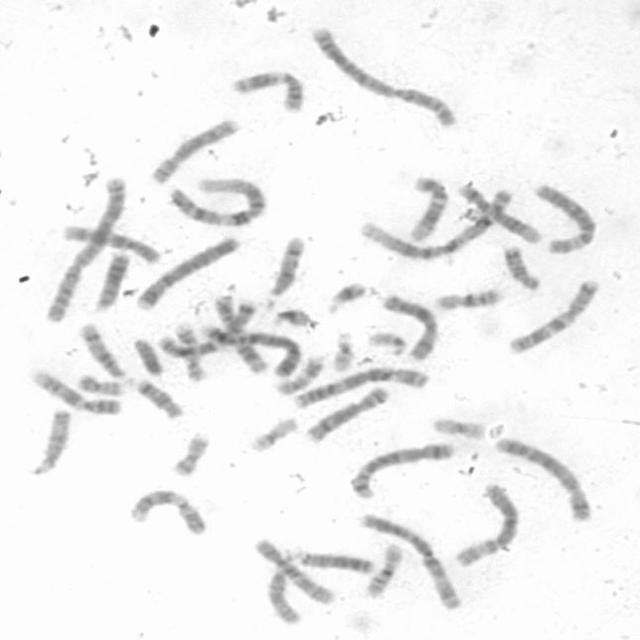A1: (353, 181, 515, 262), (163, 172, 270, 228)
A2: (306, 21, 461, 129), (38, 170, 129, 323)
A3: (355, 508, 466, 612), (291, 363, 433, 410)
B4: (132, 231, 244, 312), (196, 321, 305, 379)
B5: (492, 433, 596, 522), (347, 438, 458, 500)
C10: (249, 533, 339, 606), (58, 220, 163, 266)
C11: (208, 291, 270, 375), (228, 64, 308, 114)
C12: (452, 179, 545, 246), (403, 170, 450, 243)
C6: (448, 478, 522, 568), (528, 178, 600, 255)
C7: (503, 274, 603, 356), (153, 296, 260, 360)
C8: (145, 114, 243, 185), (300, 382, 392, 444)
C9: (24, 364, 124, 417), (124, 485, 210, 537)
D13: (287, 544, 379, 576), (88, 247, 131, 313)
D14: (76, 319, 128, 381), (261, 230, 307, 300)
D15: (27, 404, 73, 476), (261, 554, 304, 627)
E16: (361, 539, 405, 599), (431, 283, 506, 312)
E17: (271, 350, 329, 396), (170, 318, 210, 382)
E18: (130, 374, 186, 421), (498, 240, 543, 292)
F19: (244, 412, 301, 454), (427, 412, 488, 441)
F20: (168, 428, 213, 478), (73, 370, 126, 397)
G21: (321, 276, 370, 314), (268, 304, 316, 330)
G22: (364, 327, 409, 358), (328, 326, 358, 372)
X: (380, 290, 442, 362)
Y: (129, 332, 166, 377)
